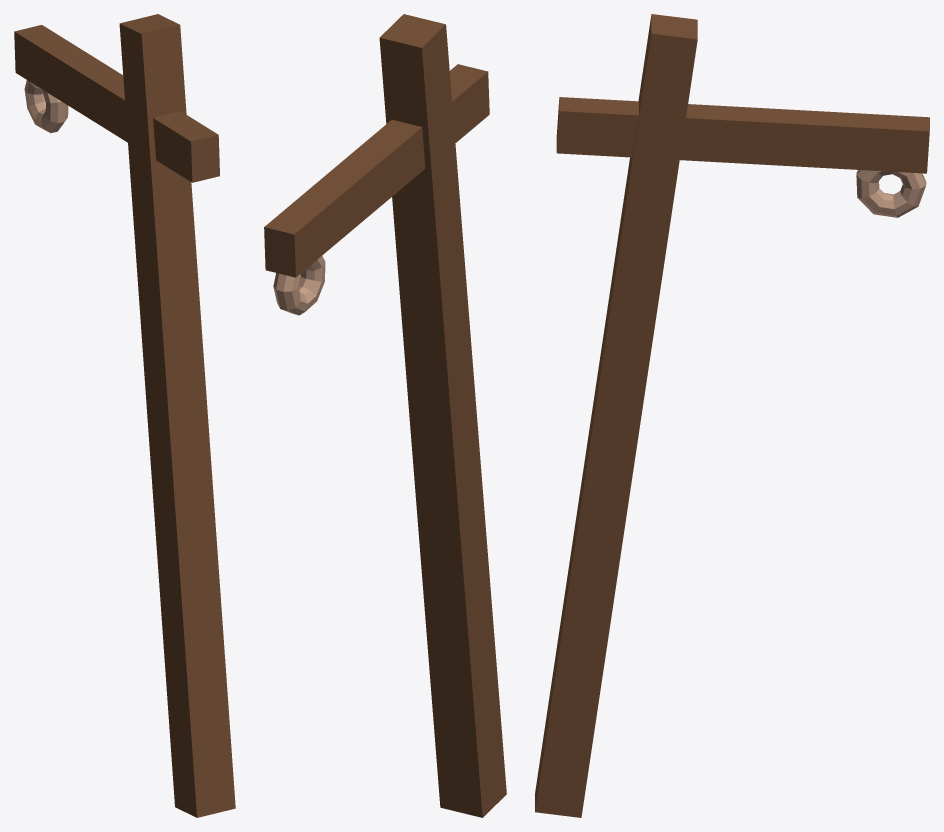
The model's file is belhendel.fbx.
3 renders of one model, left to right at view 1: azimuth 30°, elevation 25°; view 2: azimuth 150°, elevation 25°; view 3: azimuth 270°, elevation 25°, orthographic. The views are drawn at different scales.
Visible parts, largest first — view 1: bel_houder; view 2: bel_houder; view 3: bel_houder.
Part boxes in pixels (x1,y1,x2,y2): bel_houder: (14, 14, 235, 817); bel_houder: (264, 14, 506, 817); bel_houder: (535, 14, 929, 817).
Bounding box in the file's own units: 0.18 × 3.33 × 1.52.
